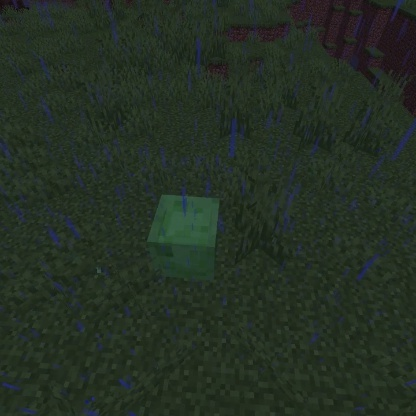slime: (143, 191, 224, 285)
